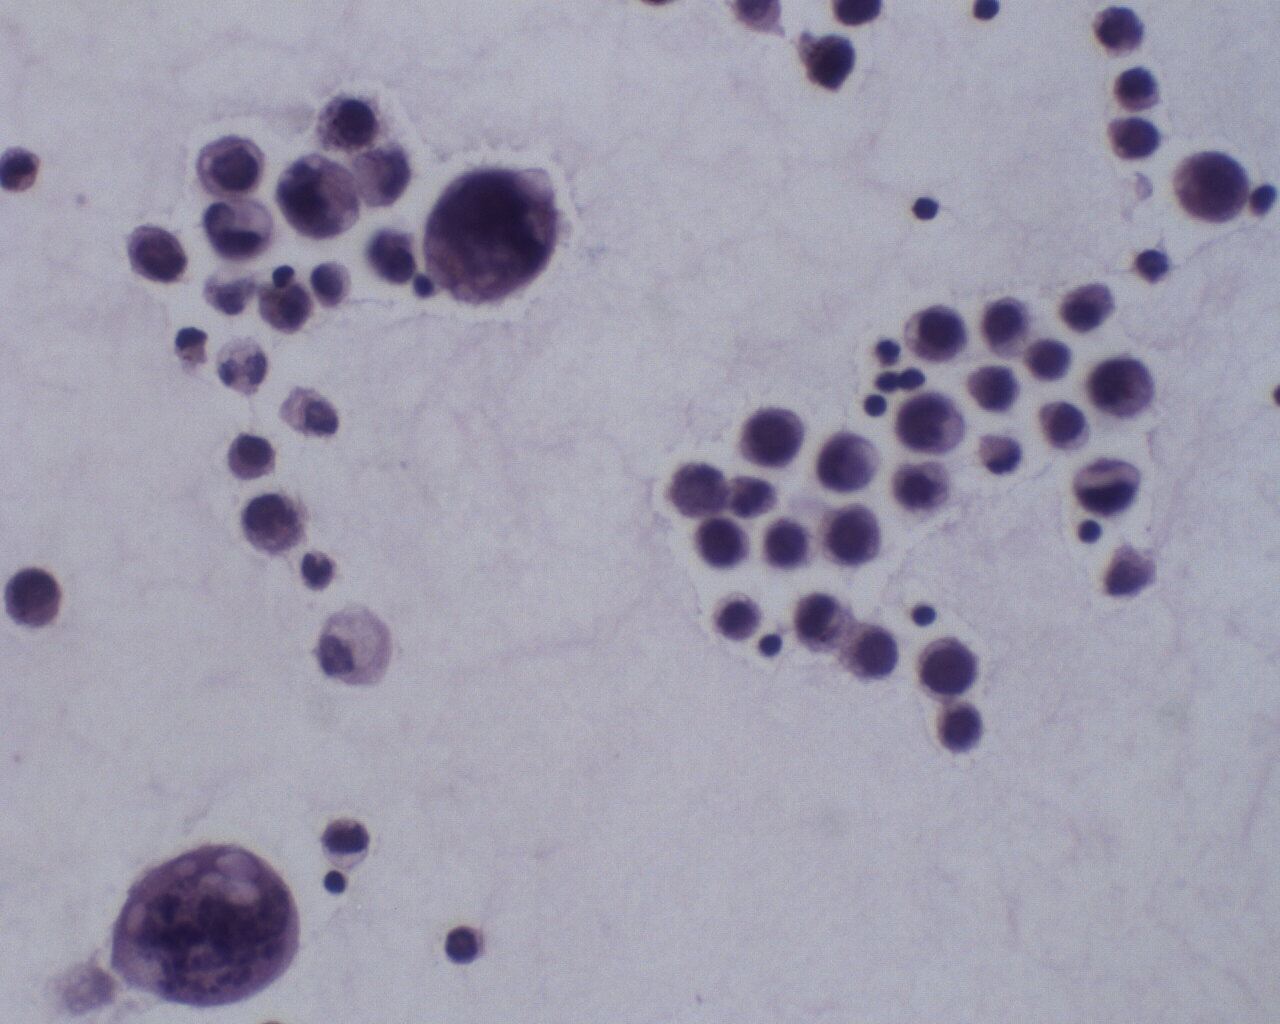ab: (109, 839, 298, 1013), (425, 153, 571, 312), (276, 154, 359, 239), (1169, 144, 1253, 229), (812, 425, 884, 497), (740, 397, 806, 474), (1087, 353, 1153, 426), (899, 389, 970, 456), (195, 133, 267, 199), (126, 219, 191, 290), (317, 91, 387, 156), (917, 633, 981, 701), (5, 562, 65, 631), (820, 502, 885, 564), (905, 303, 969, 365), (802, 34, 859, 94), (1037, 397, 1095, 452), (845, 625, 899, 684), (696, 515, 751, 571), (937, 701, 992, 757), (254, 282, 311, 333), (763, 517, 815, 572), (1108, 114, 1164, 164), (1095, 1, 1145, 55), (1023, 336, 1079, 383)
histo: (312, 599, 395, 688)
lymph: (907, 189, 942, 227), (1074, 515, 1104, 544)
neutro: (297, 546, 341, 591)
